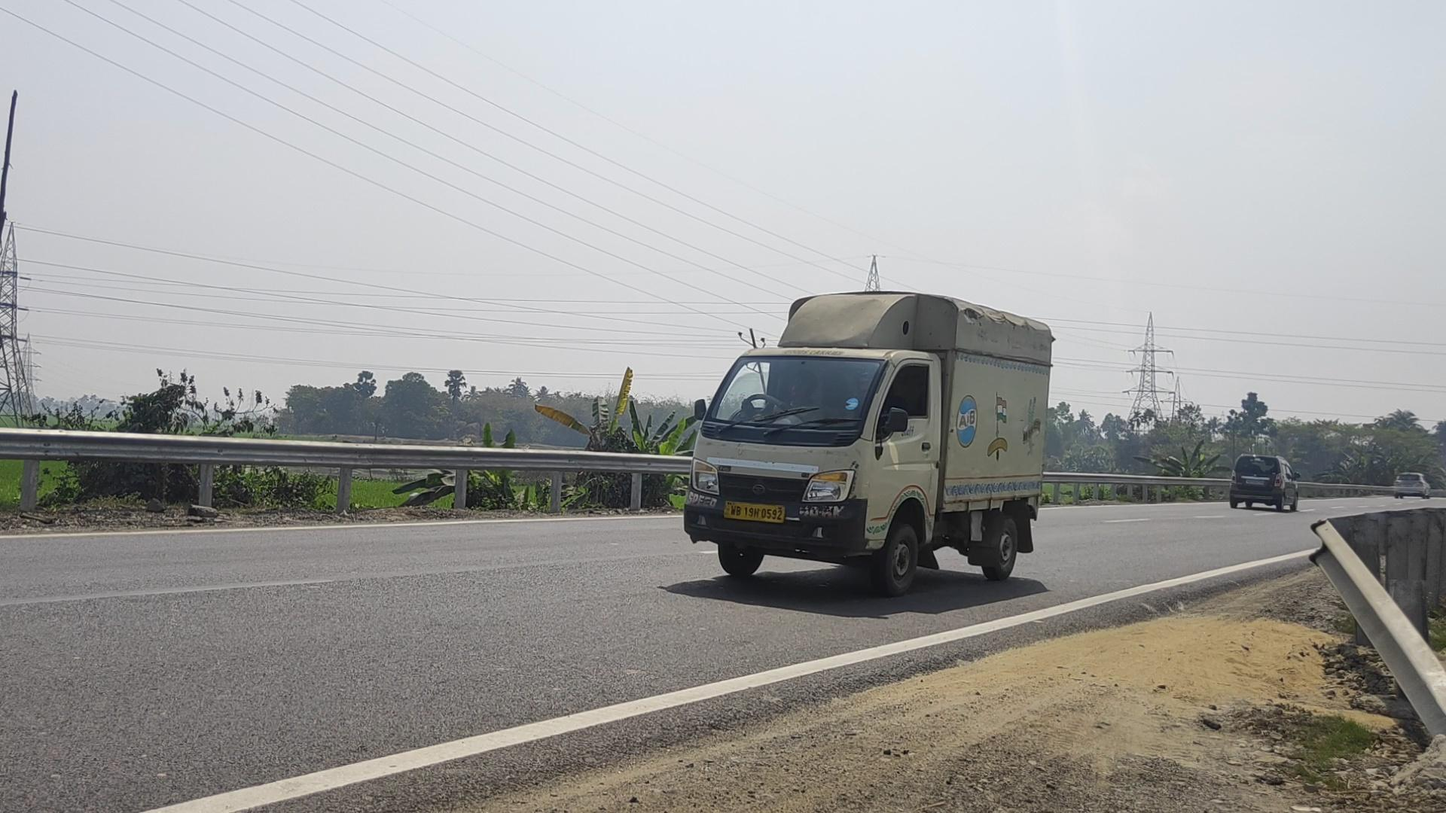car: (1229, 453, 1301, 513), (1393, 473, 1431, 500)
van: (685, 291, 1056, 595)
